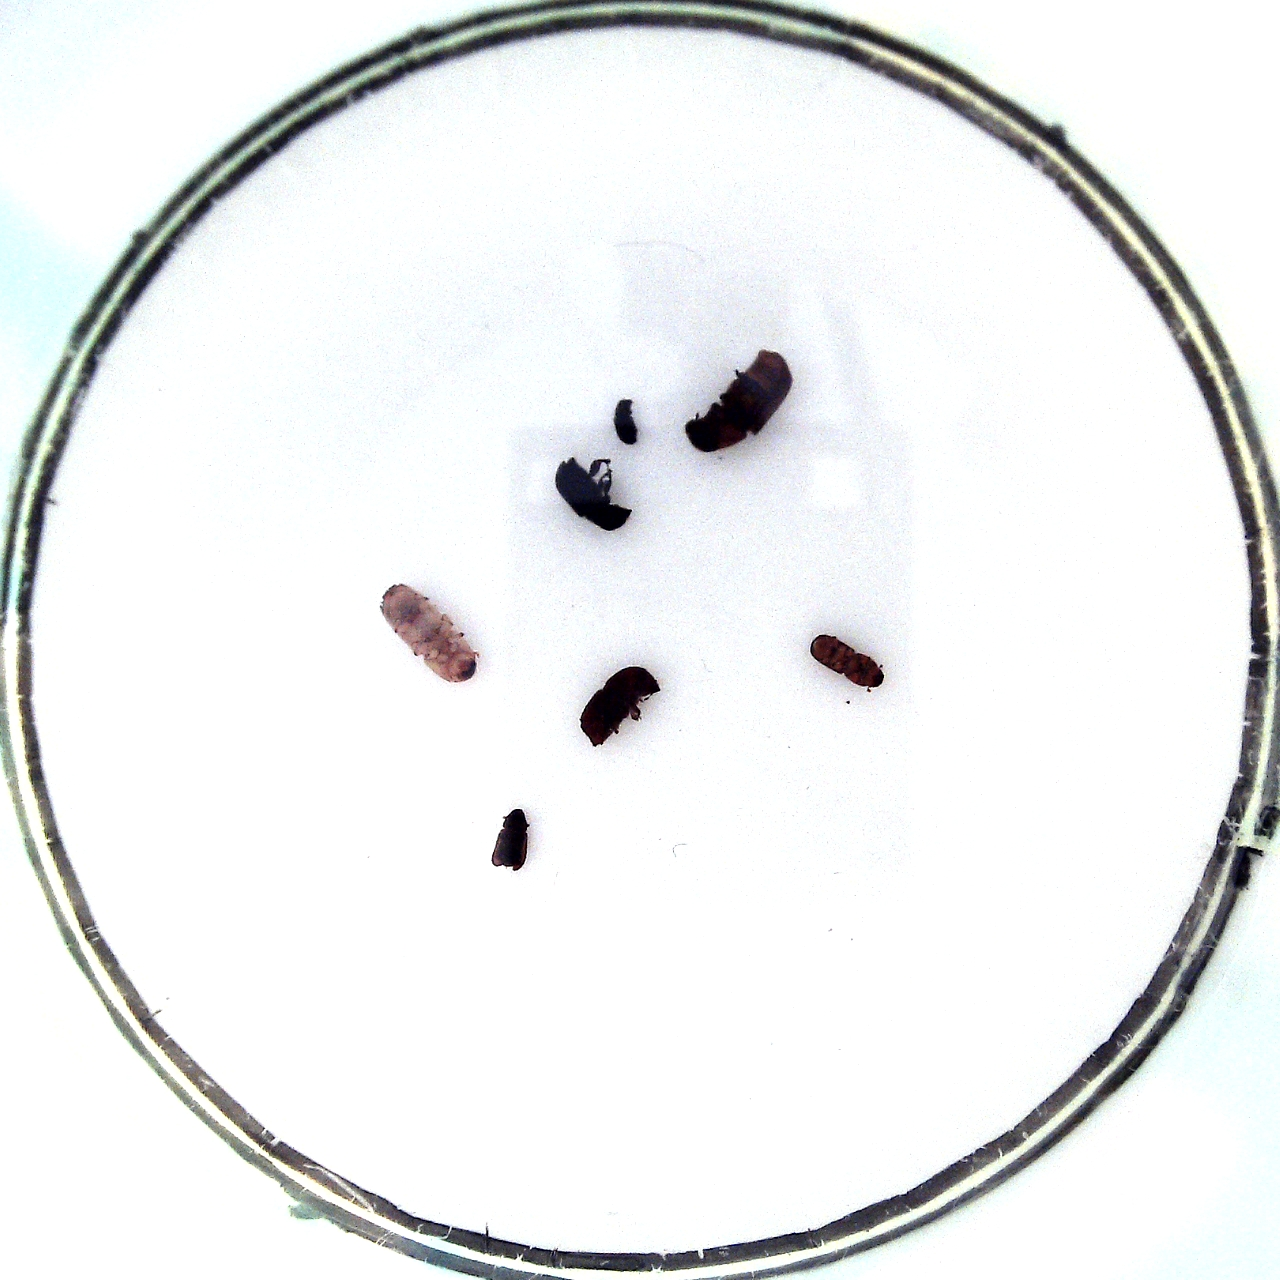Boerner: (379, 584, 479, 682)
Leconte: (685, 349, 792, 454)
acuminatus: (614, 399, 638, 445)
armandi: (554, 458, 633, 531)
coleoptera: (811, 635, 884, 688), (491, 809, 529, 871)
linnaeus: (580, 665, 660, 745)
